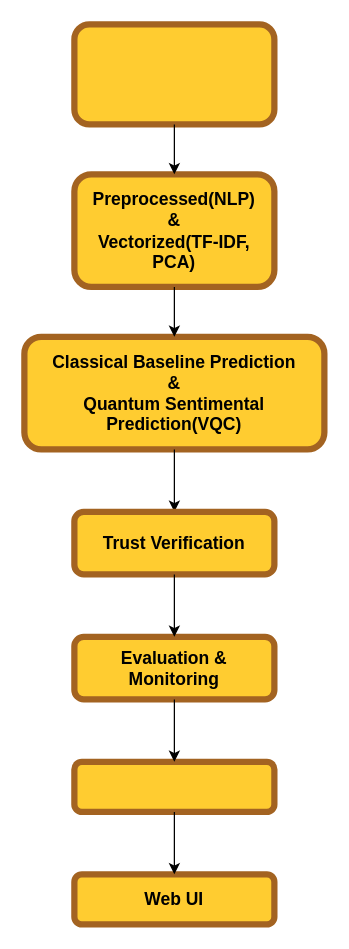
Some shapes in this 349 by 949 pixel diagram are drawn without their labels. The shapes that lost their labels are listed below. From the top down, each one's box as (x1, y1, x2, y2) in pixels, then its label:
(71, 21, 277, 127): News Sources & Predefined Dataset
(71, 758, 277, 814): FastAPI Service
